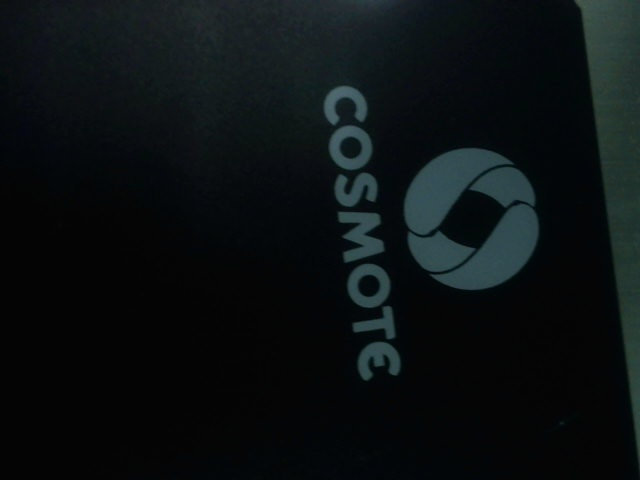AU_COSMOTE: (306, 77, 544, 388)
